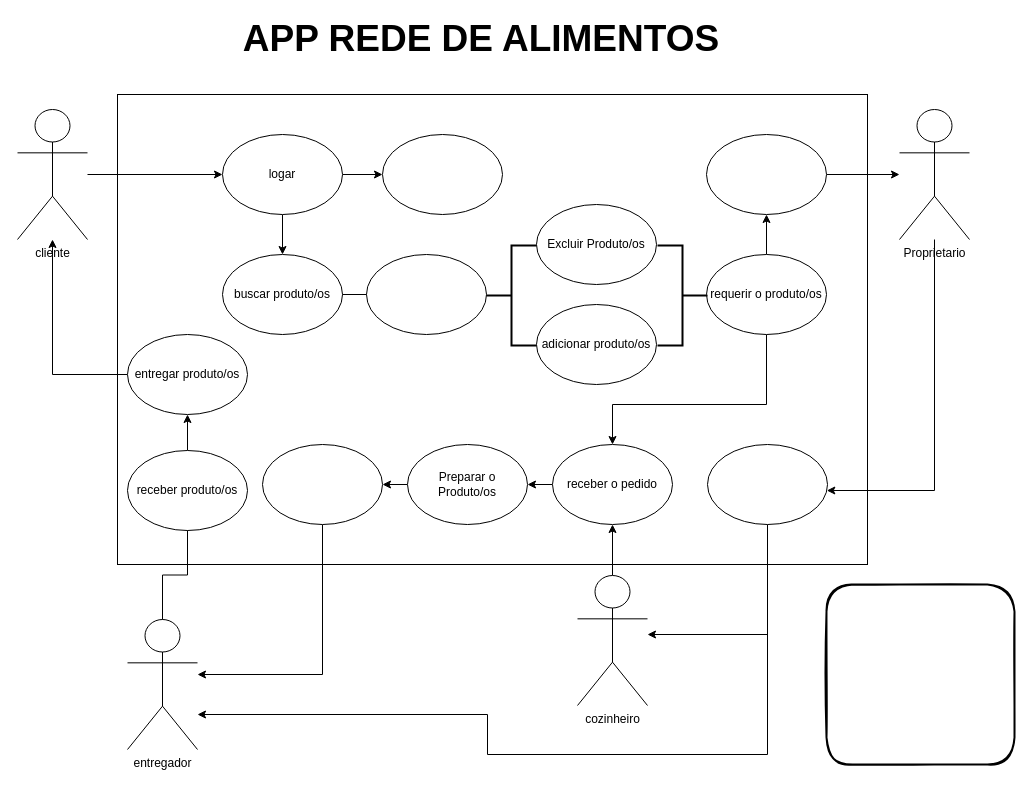
This 1033x787 diagram has some shape labels left out. The centre of each missing label's shape, as x and y in pixels:
"enviar produto/os" goes at pixel 322 484.
"INTEGRANTES Lucas Maria Gabriel Rodrigues Fabio Fernanda" goes at pixel 920 674.
"listar produto/os" goes at pixel 426 294.
"pagar o produto" goes at pixel 766 174.
"pagar o sario" goes at pixel 767 484.
"preencher informações bancarias" goes at pixel 442 174.
